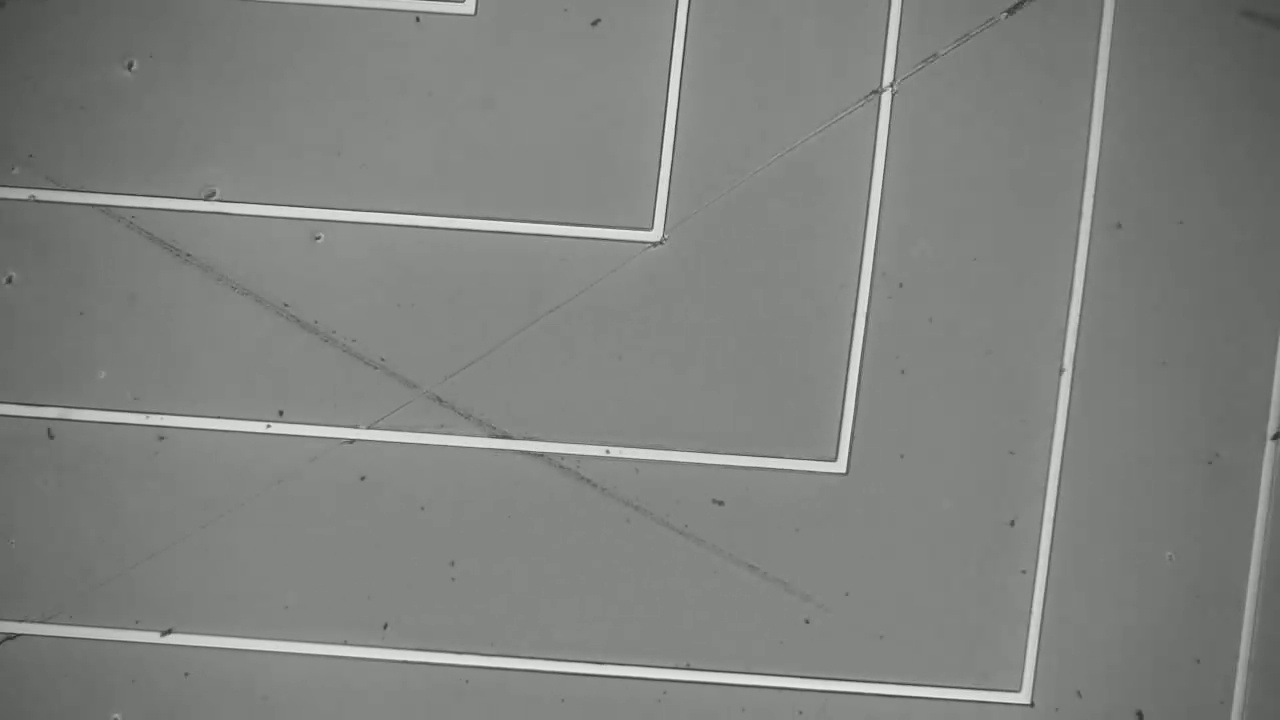edge_bite: (22, 183, 39, 205)
scratch: (41, 169, 823, 598), (357, 3, 1029, 434)
stains_enbedded: (152, 619, 175, 651), (1257, 420, 1279, 450)
